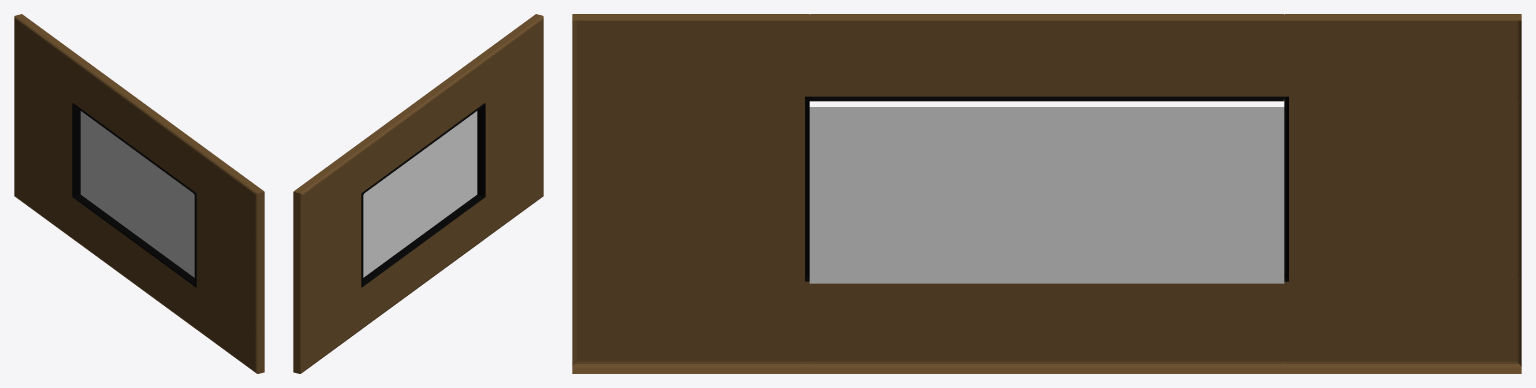
The model's file is vidroDeObservação.fbx.
3 views of the same model, side by side, from view 1: azimuth 30°, elevation 25°; view 2: azimuth 150°, elevation 25°; view 3: azimuth 270°, elevation 25° (orthographic). The views are drawn at different scales.
Parts seen in each view (by area): view 1: Cube, Cube.001; view 2: Cube, Cube.001; view 3: Cube, Cube.001.
Part boxes in pixels (left/top/right/bottom): Cube: left=14, top=14, right=264, bottom=373; Cube.001: left=72, top=103, right=196, bottom=287; Cube: left=293, top=14, right=543, bottom=373; Cube.001: left=361, top=103, right=485, bottom=287; Cube: left=572, top=14, right=1521, bottom=373; Cube.001: left=805, top=96, right=1288, bottom=281.
Bounding box in the file's own units: 46.93 × 802 × 1954.
